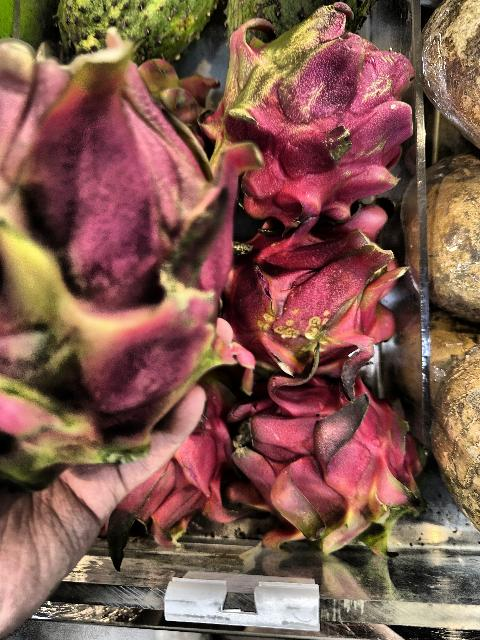buah-naga-belum-matang: (0, 33, 236, 463), (220, 1, 418, 211), (230, 372, 426, 562)
buah-naga-matang: (214, 206, 398, 370), (111, 406, 231, 550)
